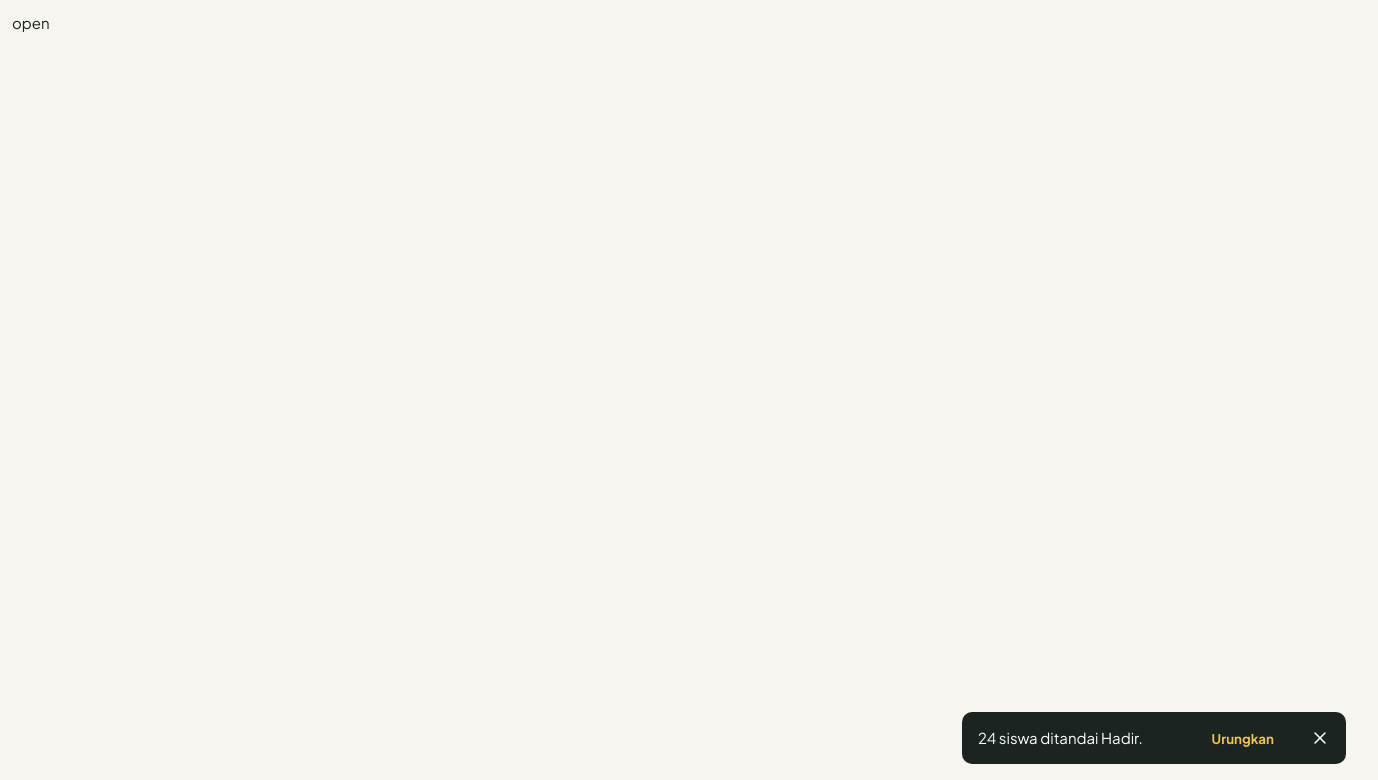
Toast › Urungkan is at least 44 px high, runs the undo and closes the toast
This screenshot has width=1378, height=780.
Click the button "Urungkan" at point(1243, 738), box top-left (1196, 716), bottom-right (1290, 760)
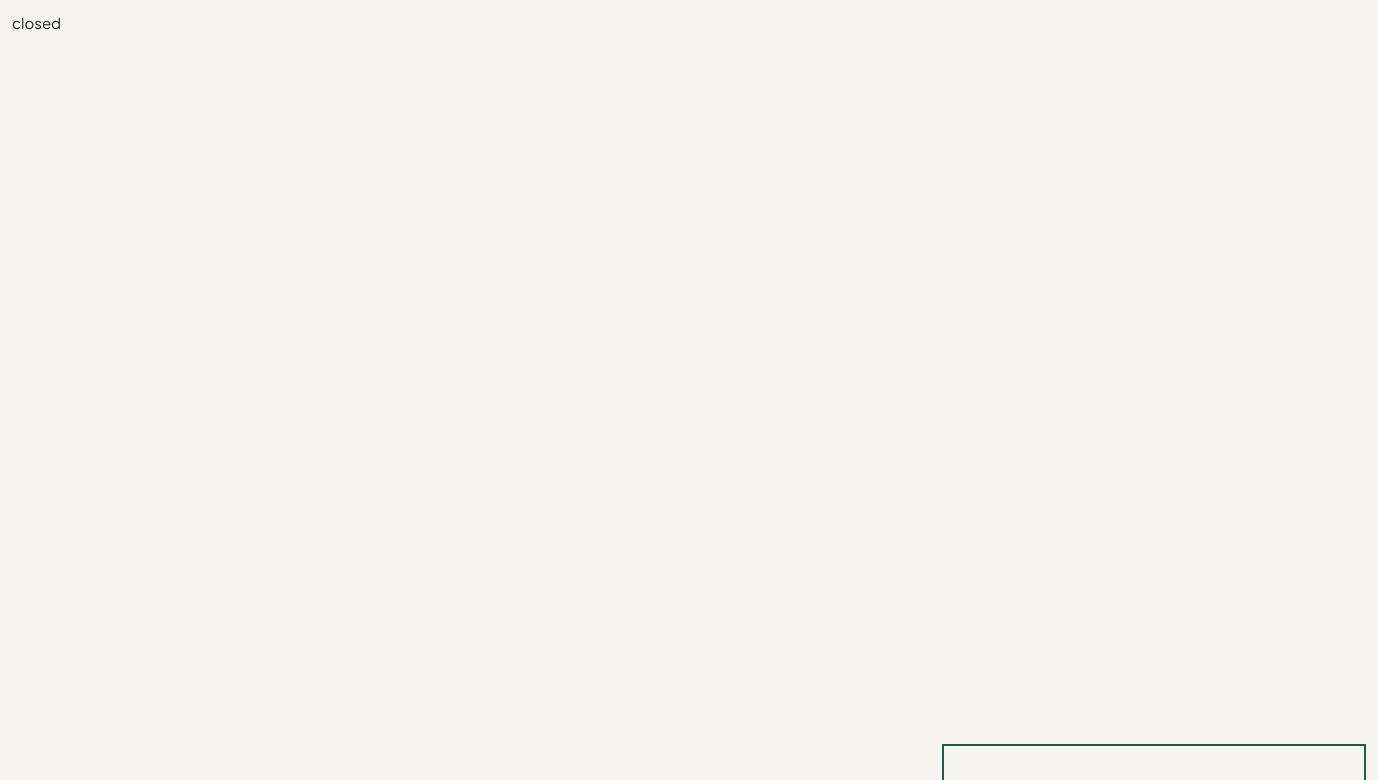
Expected: the text with test id "state" reads "closed", top-left (12, 13), bottom-right (61, 32)
